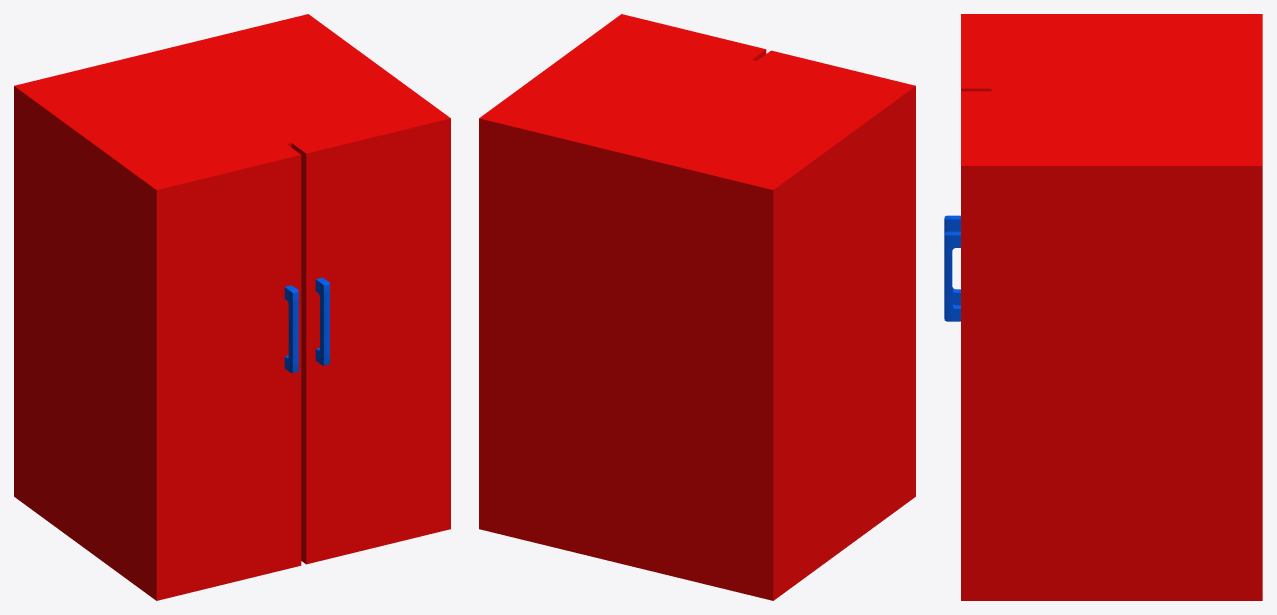
File: hospital_fnt_cafetera_buro.fbx
3 renders of one model, left to right at view 1: azimuth 30°, elevation 25°; view 2: azimuth 150°, elevation 25°; view 3: azimuth 270°, elevation 25°, orthographic. The views are drawn at different scales.
Visible parts, largest first — view 1: hospital_fnt_cafetera_buro; view 2: hospital_fnt_cafetera_buro; view 3: hospital_fnt_cafetera_buro.
Part boxes in pixels (left/top/right/bottom): hospital_fnt_cafetera_buro: left=14, top=14, right=450, bottom=600; hospital_fnt_cafetera_buro: left=479, top=14, right=915, bottom=600; hospital_fnt_cafetera_buro: left=944, top=14, right=1262, bottom=600.
Size of the model in its own units: 60 by 80 by 53.13.
